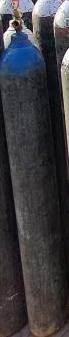cylinder: (0, 1, 69, 337)
